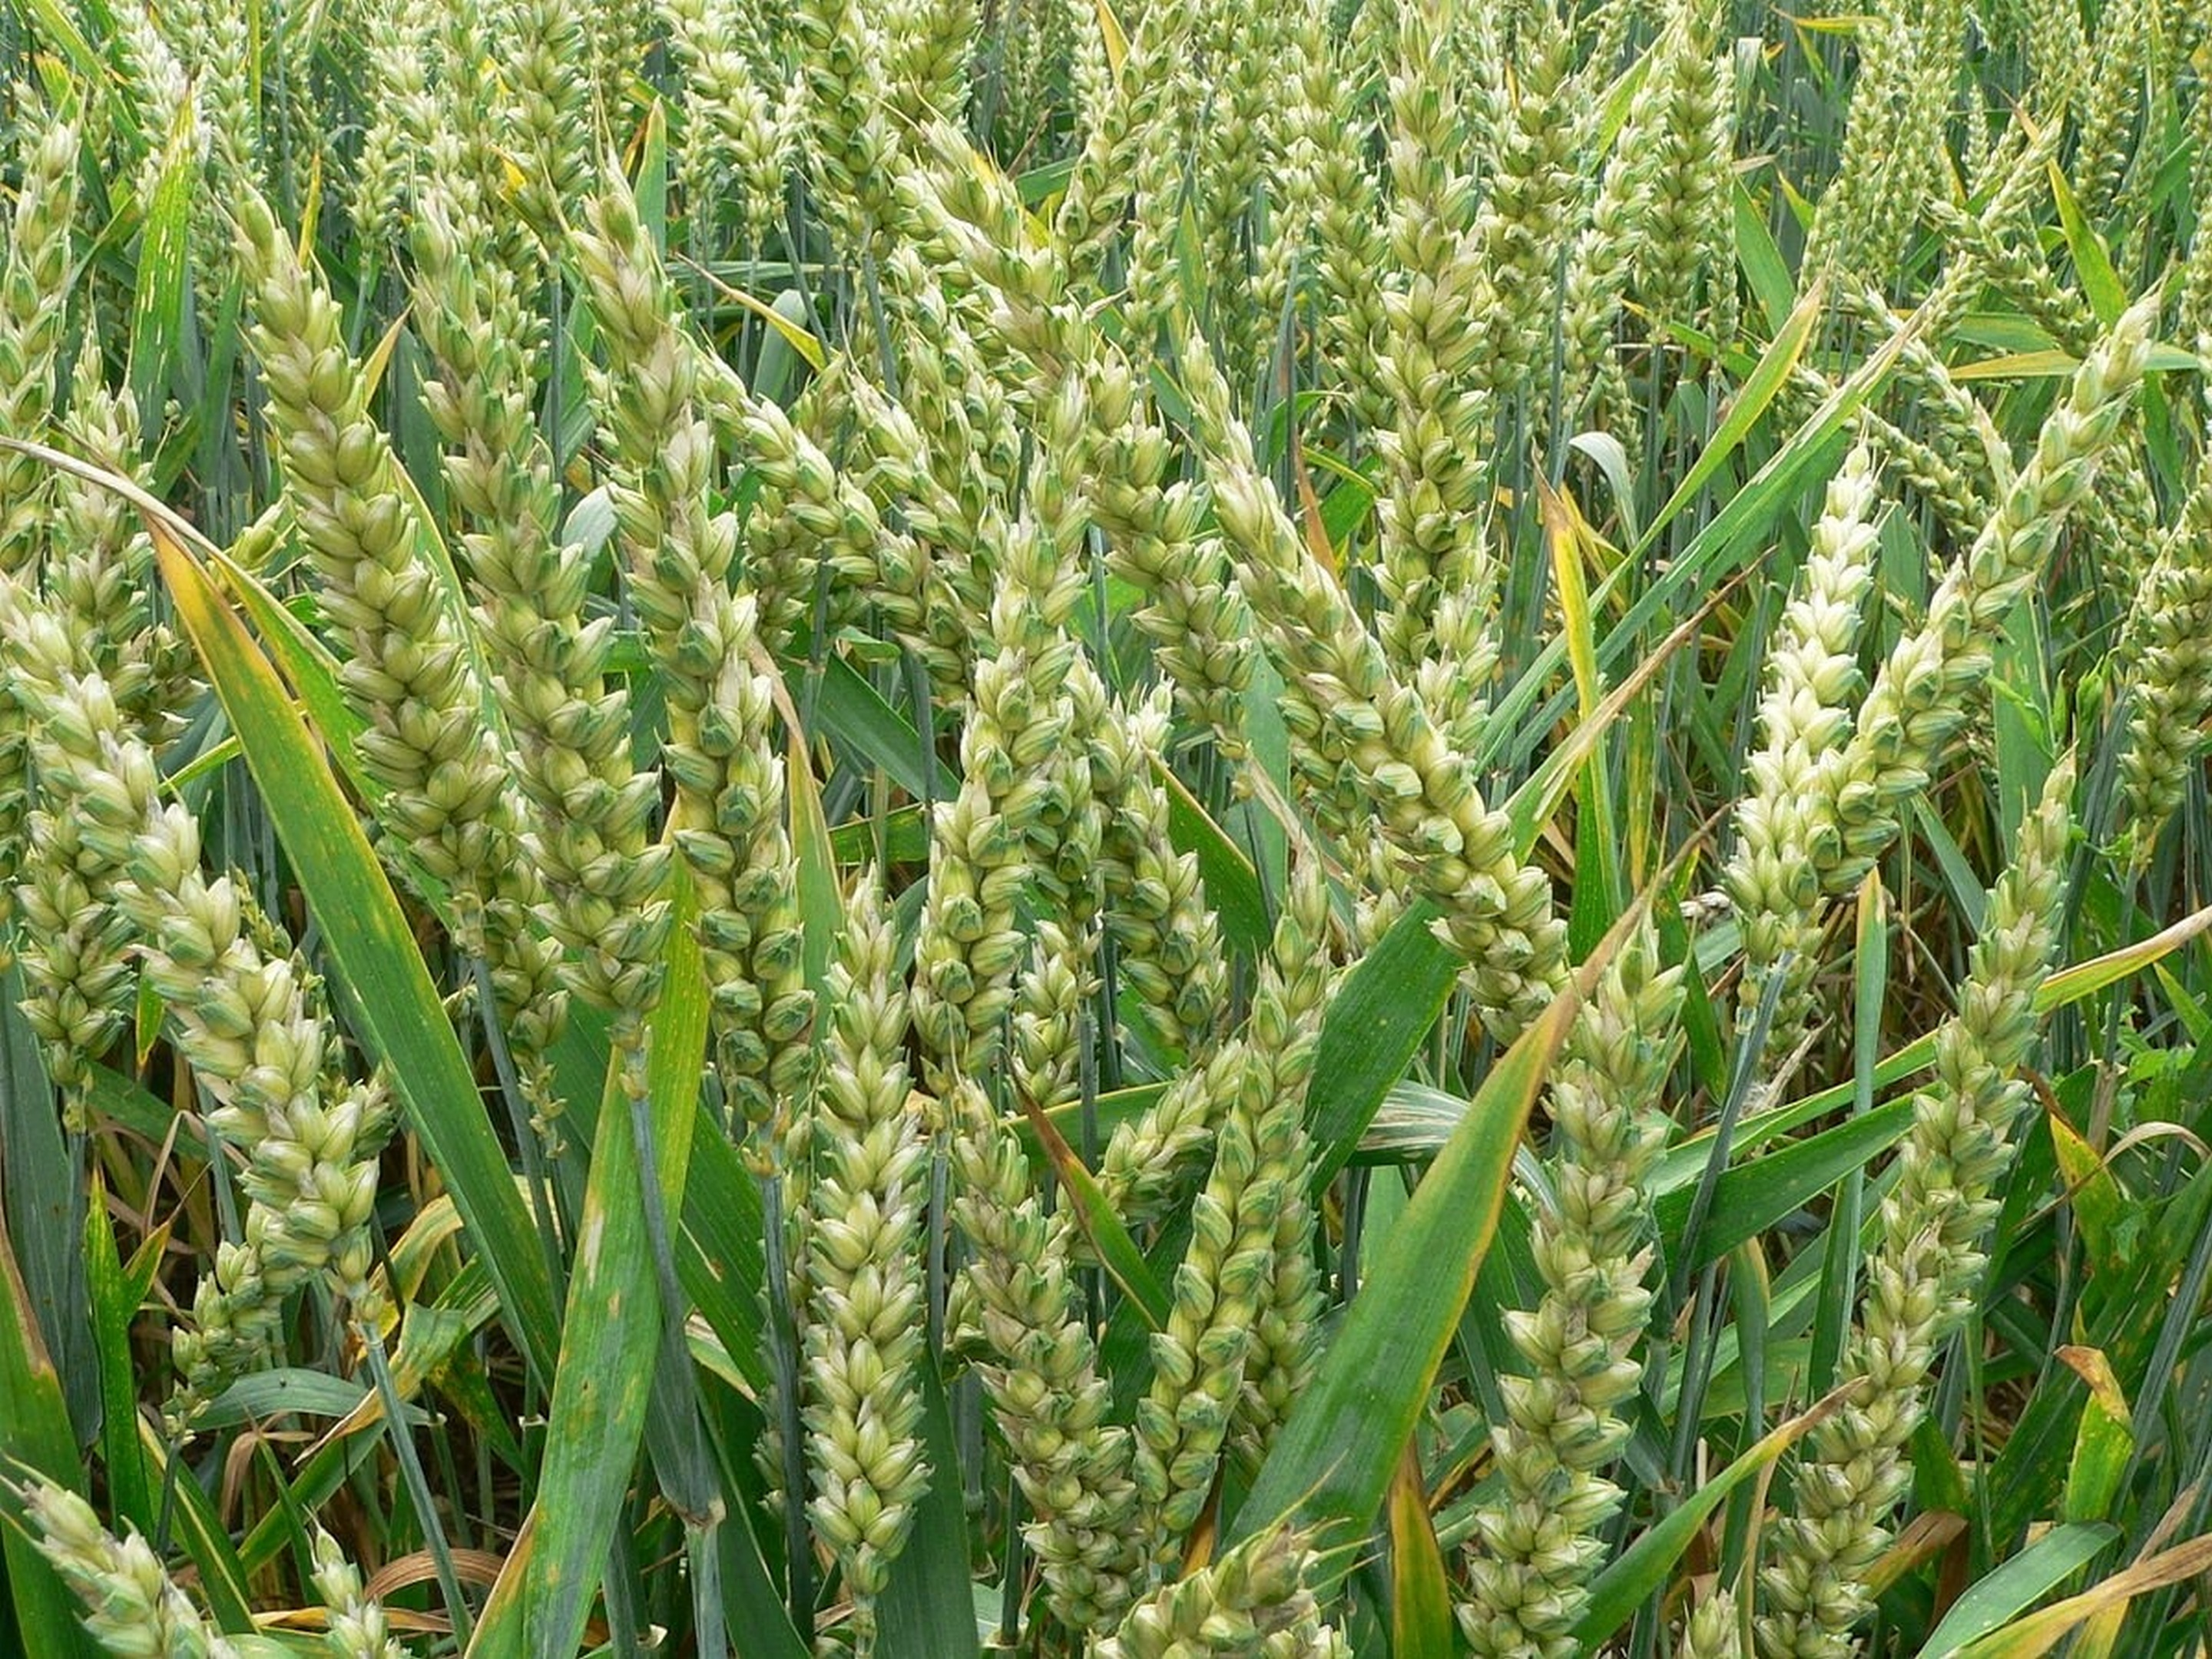Healthy Wheat: (223, 232, 632, 1030), (1211, 453, 1604, 1037), (916, 397, 1137, 1047)
